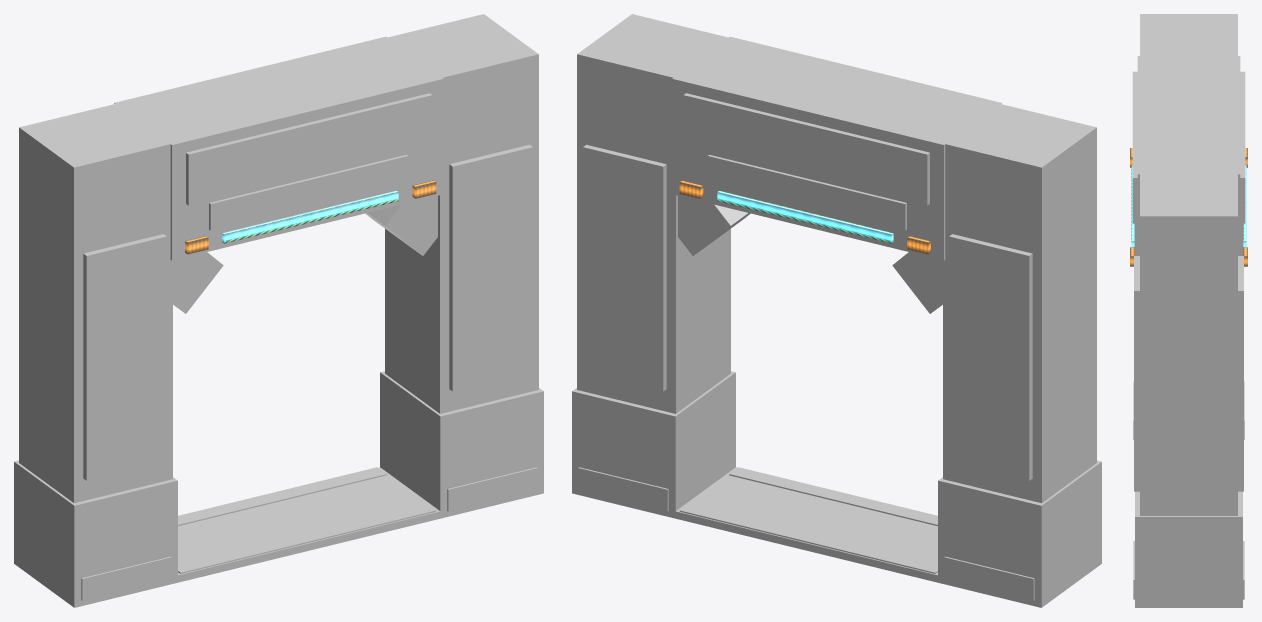
The model's file is SF_Bulkhead_Arch_LOD2.fbx.
3 views of the same model, side by side, from view 1: azimuth 30°, elevation 25°; view 2: azimuth 150°, elevation 25°; view 3: azimuth 270°, elevation 25° (orthographic). The views are drawn at different scales.
Visible parts, largest first — view 1: SF_Bulkhead_Arch_LOD2; view 2: SF_Bulkhead_Arch_LOD2; view 3: SF_Bulkhead_Arch_LOD2.
Boxes of the visible parts, bbox=[...] form: SF_Bulkhead_Arch_LOD2: bbox=[14, 14, 543, 607]; SF_Bulkhead_Arch_LOD2: bbox=[572, 14, 1101, 607]; SF_Bulkhead_Arch_LOD2: bbox=[1130, 14, 1247, 607].
Size of the model in its own units: 4.04 by 3.6 by 0.984.
